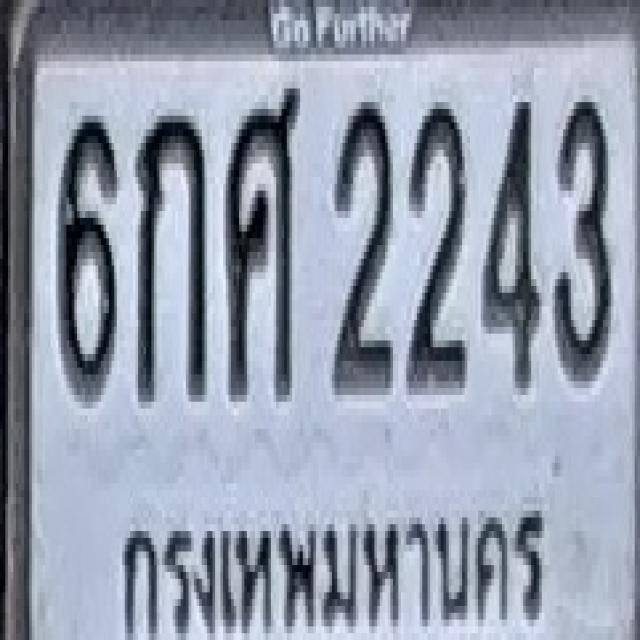2: (332, 95, 393, 388), (406, 102, 465, 388)
3: (554, 96, 610, 382)
4: (481, 95, 539, 388)
6: (58, 109, 117, 395)
A01: (137, 109, 206, 402)
A38: (224, 82, 299, 395)
BKK: (115, 507, 553, 640)
